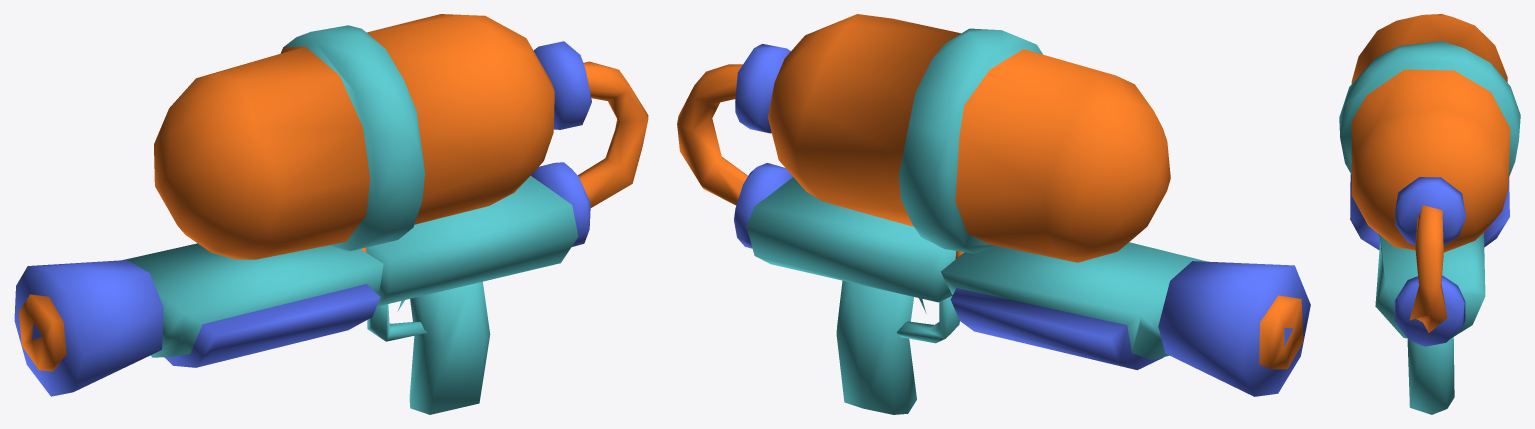
Rendered from Watergun_LP.fbx.
3 views of the same model, side by side, from view 1: azimuth 30°, elevation 25°; view 2: azimuth 150°, elevation 25°; view 3: azimuth 270°, elevation 25° (orthographic). The views are drawn at different scales.
Parts seen in each view (by area): view 1: Pistolet à eau; view 2: Pistolet à eau; view 3: Pistolet à eau.
Boxes of the visible parts, box(x1,y1,x2,y2) form: Pistolet à eau: box(14, 14, 648, 414); Pistolet à eau: box(677, 14, 1310, 414); Pistolet à eau: box(1339, 14, 1520, 414).
Size of the model in its own units: 1029 by 631 by 328.
